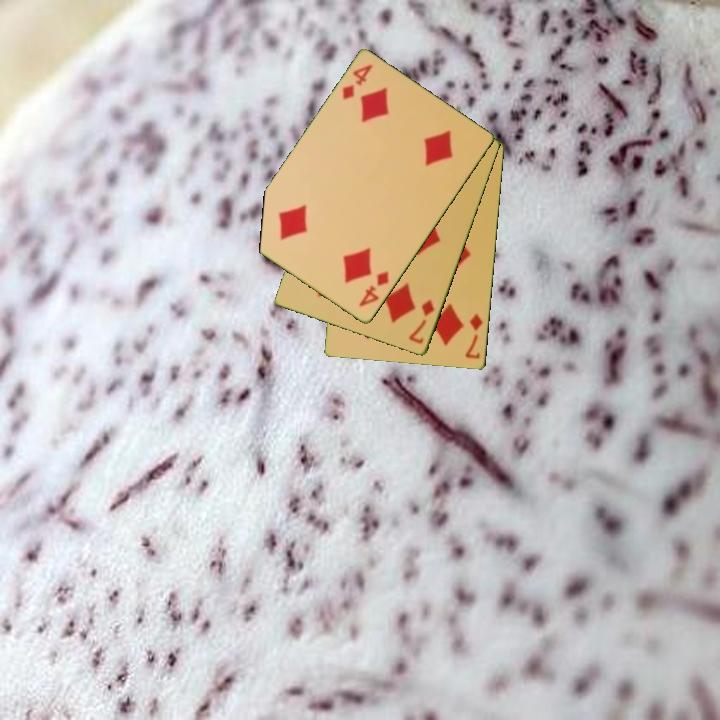4d: (355, 268, 392, 310), (339, 61, 376, 103)
7d: (405, 296, 438, 347), (462, 310, 486, 362)
